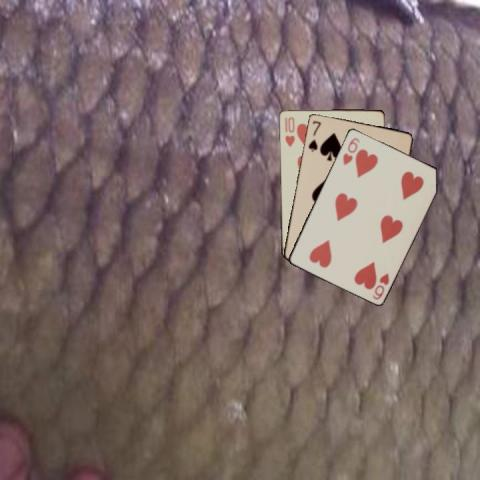10h: (282, 114, 295, 148)
6h: (339, 134, 361, 166), (369, 270, 391, 301)
7s: (305, 117, 322, 153)
